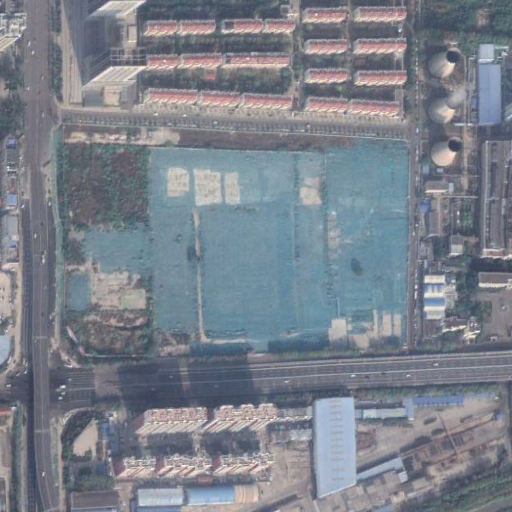cw: (57, 140, 408, 354)
